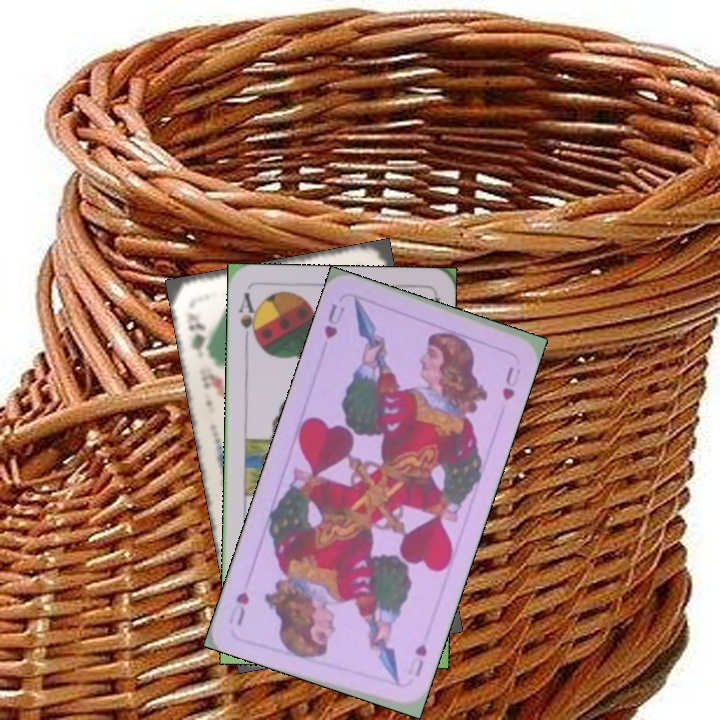GK: (182, 308, 213, 359)
HU: (320, 299, 347, 341), (411, 639, 430, 680)
SA: (234, 289, 261, 348)
